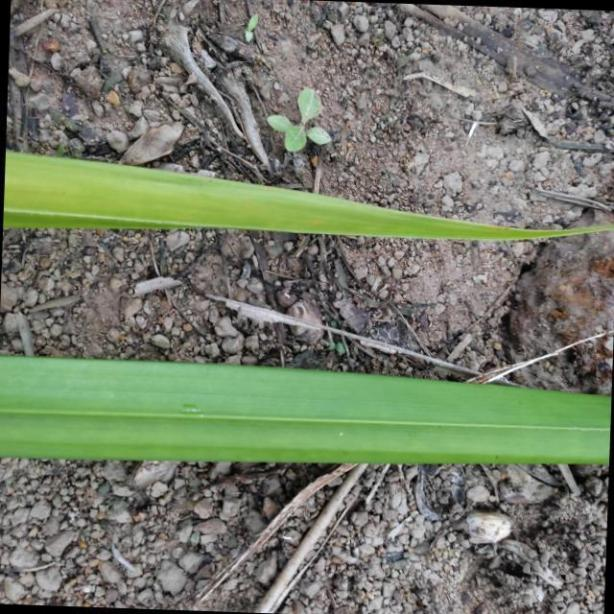nitrogen: (5, 146, 614, 249)
